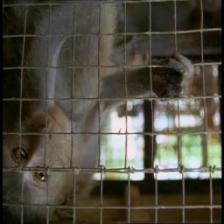monkey: (2, 94, 86, 218)
